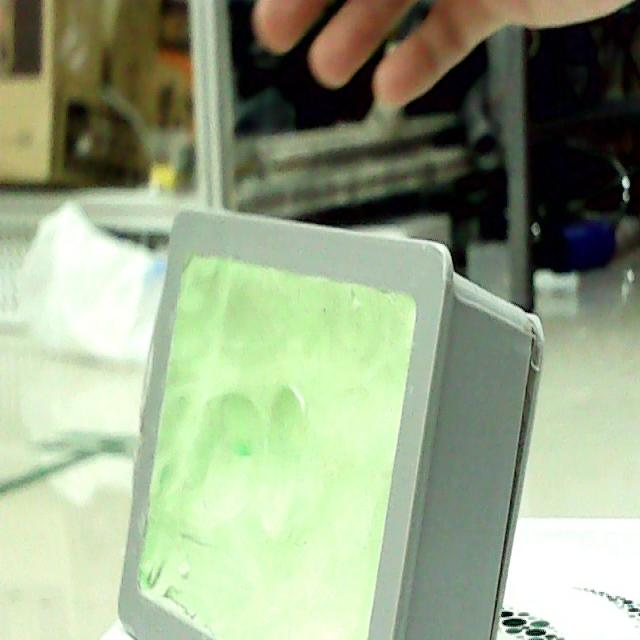block: (112, 215, 538, 640)
